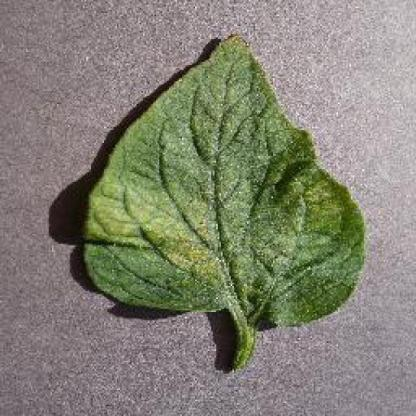Tomato_Spider_Mites: (82, 36, 363, 326)
